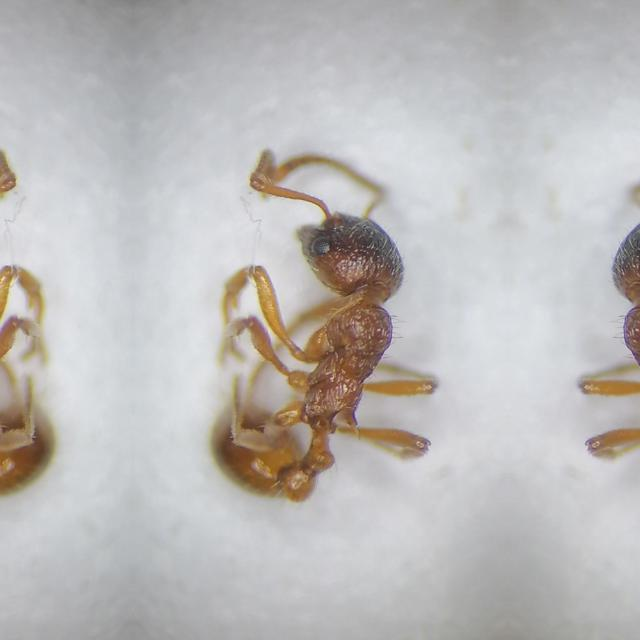Myrmica: (138, 135, 506, 561), (508, 135, 640, 561), (0, 135, 126, 561)
